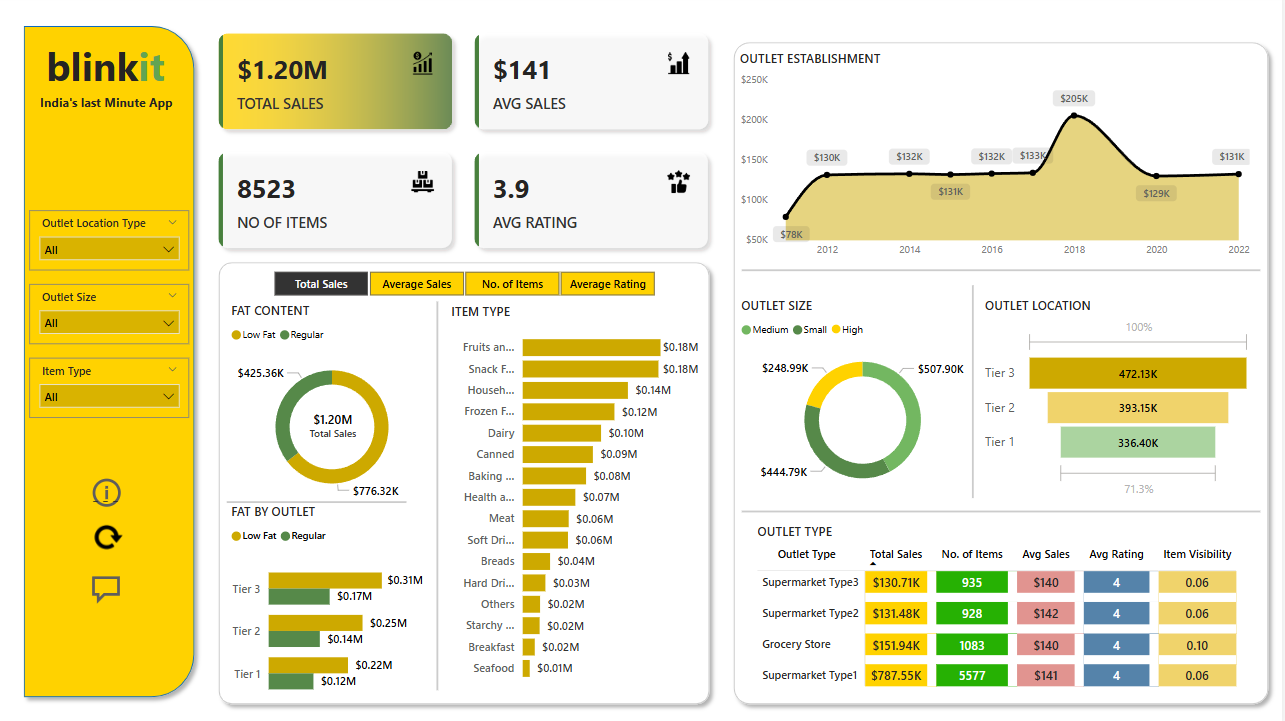

The page's visual inventory and layout, read from the dashboard file:
{"tool":"powerbi","page":{"name":"Page 1","canvas":[1400,800],"ordinal":0},"visuals":[{"type":"shape","box":[19.5,25.5,204.1,750.4],"z":0},{"type":"textbox","box":[47.7,43.6,147.2,76.3],"z":1000},{"type":"textbox","box":[40.9,103.6,165,32.7],"z":2000},{"type":"cardVisual","fields":{"Data":["BlinkIT Grocery Data.Total Sales","BlinkIT Grocery Data.Average Sales","BlinkIT Grocery Data.No. of Items","BlinkIT Grocery Data.Average Rating"]},"box":[223.6,25.9,569.9,269.9],"z":3000},{"type":"shape","box":[231.8,283.6,553.5,500.3],"z":4000},{"type":"donutChart","title":"FAT CONTENT","fields":{"Y":["BlinkIT Grocery Data.Total Sales"],"Category":["BlinkIT Grocery Data.Item Fat Content"]},"box":[249.5,335.4,230.4,229],"z":5000},{"type":"slicer","fields":{"Values":["Metrics.Metrics"]},"box":[275.4,295.8,464.9,39.5],"z":6000},{"type":"cardVisual","fields":{"Data":["BlinkIT Grocery Data.Total Sales"]},"box":[306.8,429.5,117.2,80.4],"z":7000},{"type":"clusteredBarChart","title":"FAT BY OUTLET","fields":{"Y":["BlinkIT Grocery Data.Total Sales"],"Category":["BlinkIT Grocery Data.Outlet Location Type"],"Series":["BlinkIT Grocery Data.Item Fat Content"]},"box":[249.5,554.9,219.5,229],"z":8000},{"type":"shape","box":[249.5,544,196.3,20.5],"z":9000},{"type":"shape","box":[469,335.4,20.5,424],"z":10000},{"type":"barChart","title":"ITEM TYPE","fields":{"Y":["BlinkIT Grocery Data.Total Sales"],"Category":["BlinkIT Grocery Data.Item Type"]},"box":[489.4,336.7,279.5,422.6],"z":11000},{"type":"shape","box":[793.5,43.6,601.2,740.3],"z":12000},{"type":"lineChart","title":"OUTLET ESTABLISHMENT","fields":{"Category":["BlinkIT Grocery Data.Outlet Establishment Year"],"Y":["BlinkIT Grocery Data.Total Sales"]},"box":[804.4,61.4,565.8,234.5],"z":13000},{"type":"shape","box":[811.2,295.8,565.8,10.9],"z":14000},{"type":"donutChart","title":"OUTLET SIZE","fields":{"Y":["BlinkIT Grocery Data.Total Sales"],"Category":["BlinkIT Grocery Data.Outlet Size"]},"box":[805.7,329.9,275.4,225],"z":15000},{"type":"shape","box":[1055.2,317.7,16.4,237.2],"z":16000},{"type":"funnel","title":"OUTLET LOCATION","fields":{"Category":["BlinkIT Grocery Data.Outlet Location Type"],"Y":["Sum(BlinkIT Grocery Data.Sales)"]},"box":[1071.6,329.9,299.9,225],"z":17000},{"type":"shape","box":[811.2,559,565.8,10.9],"z":18000},{"type":"pivotTable","title":"OUTLET TYPE","fields":{"Rows":["BlinkIT Grocery Data.Outlet Type"],"Values":["BlinkIT Grocery Data.Total Sales","BlinkIT Grocery Data.No. of Items","BlinkIT Grocery Data.Average Sales","BlinkIT Grocery Data.Average Rating","Avg(BlinkIT Grocery Data.Item Visibility)"]},"box":[823.5,576.7,544,184.1],"z":19000},{"type":"slicer","fields":{"Values":["BlinkIT Grocery Data.Outlet Location Type"]},"box":[34.1,235.9,174.5,65.4],"z":20000},{"type":"slicer","fields":{"Values":["BlinkIT Grocery Data.Outlet Size"]},"box":[34.1,316.3,174.5,65.4],"z":21000},{"type":"slicer","fields":{"Values":["BlinkIT Grocery Data.Item Type"]},"box":[34.1,396.7,174.5,65.4],"z":22000},{"type":"actionButton","box":[68.2,548.1,105,88.6],"z":23000},{"type":"actionButton","box":[98.2,629.9,51.8,39.5],"z":23002},{"type":"actionButton","box":[98.2,523.5,40.9,40.9],"z":23004},{"type":"card","fields":{"Values":["Min(BlinkIT Grocery Data.Item Identifier)"]},"box":[95.4,527.6,43.6,31.4],"z":23005}]}

Visuals, with their boxes in screenshot pixels (x1, y1, x2, y2), scaled from the page's 1400x800 canvas onto the 1285x721 screenshot:
shape: 18,23,205,699
textbox: 44,39,179,108
textbox: 38,93,189,123
cardVisual - BlinkIT Grocery Data.Total Sales x BlinkIT Grocery Data.Average Sales: 205,23,728,267
shape: 213,256,721,706
"FAT CONTENT" donutChart: 229,302,440,509
slicer - Metrics.Metrics: 253,267,679,302
cardVisual - BlinkIT Grocery Data.Total Sales: 282,387,389,460
"FAT BY OUTLET" clusteredBarChart: 229,500,430,706
shape: 229,490,409,509
shape: 430,302,449,684
"ITEM TYPE" barChart: 449,303,706,684
shape: 728,39,1280,706
"OUTLET ESTABLISHMENT" lineChart: 738,55,1258,267
shape: 745,267,1264,276
"OUTLET SIZE" donutChart: 740,297,992,500
shape: 969,286,984,500
"OUTLET LOCATION" funnel: 984,297,1259,500
shape: 745,504,1264,514
"OUTLET TYPE" pivotTable: 756,520,1255,686
slicer - BlinkIT Grocery Data.Outlet Location Type: 31,213,191,272
slicer - BlinkIT Grocery Data.Outlet Size: 31,285,191,344
slicer - BlinkIT Grocery Data.Item Type: 31,358,191,416
actionButton: 63,494,159,574
actionButton: 90,568,138,603
actionButton: 90,472,128,509
card - Min(BlinkIT Grocery Data.Item Identifier): 88,475,128,504
